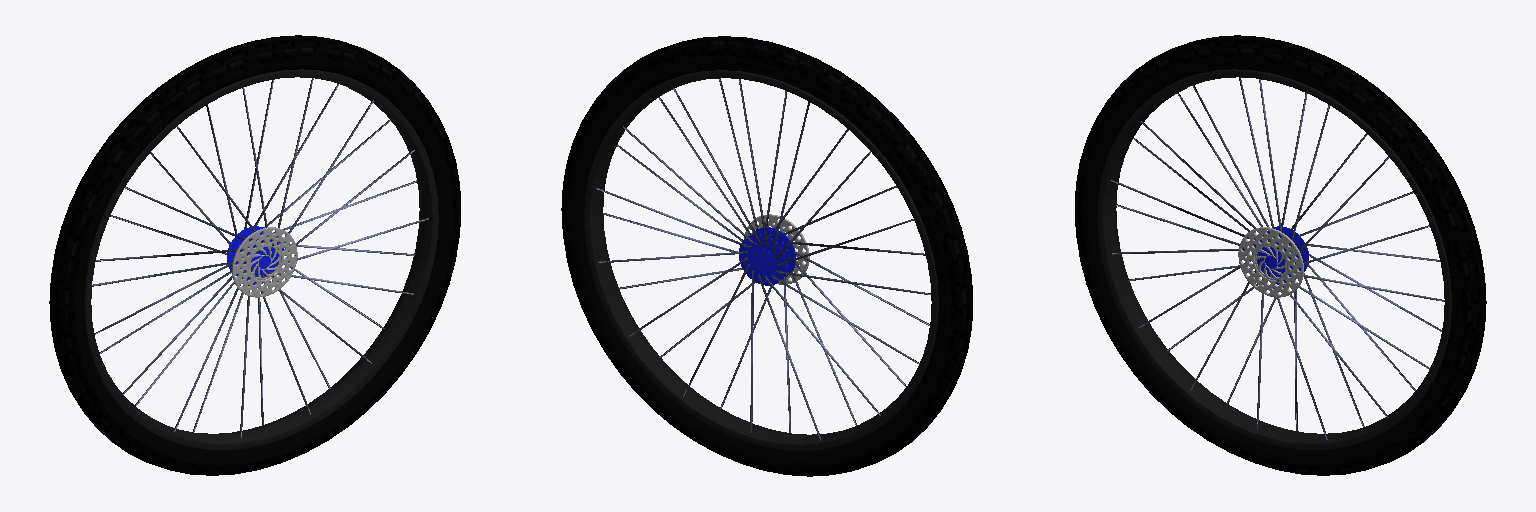
3 renders of one model, left to right at view 1: azimuth 30°, elevation 25°; view 2: azimuth 150°, elevation 25°; view 3: azimuth 330°, elevation 25°, orthographic.
Visible parts, largest first — view 1: Wheel_back; view 2: Wheel_back; view 3: Wheel_back.
Boxes of the visible parts, x1=… form: Wheel_back: x1=49, y1=35, x2=460, y2=475; Wheel_back: x1=561, y1=36, x2=972, y2=476; Wheel_back: x1=1075, y1=35, x2=1486, y2=475.
Size of the model in its own units: 2.13 by 2.13 by 0.1694.
1 materials, 1 textured.